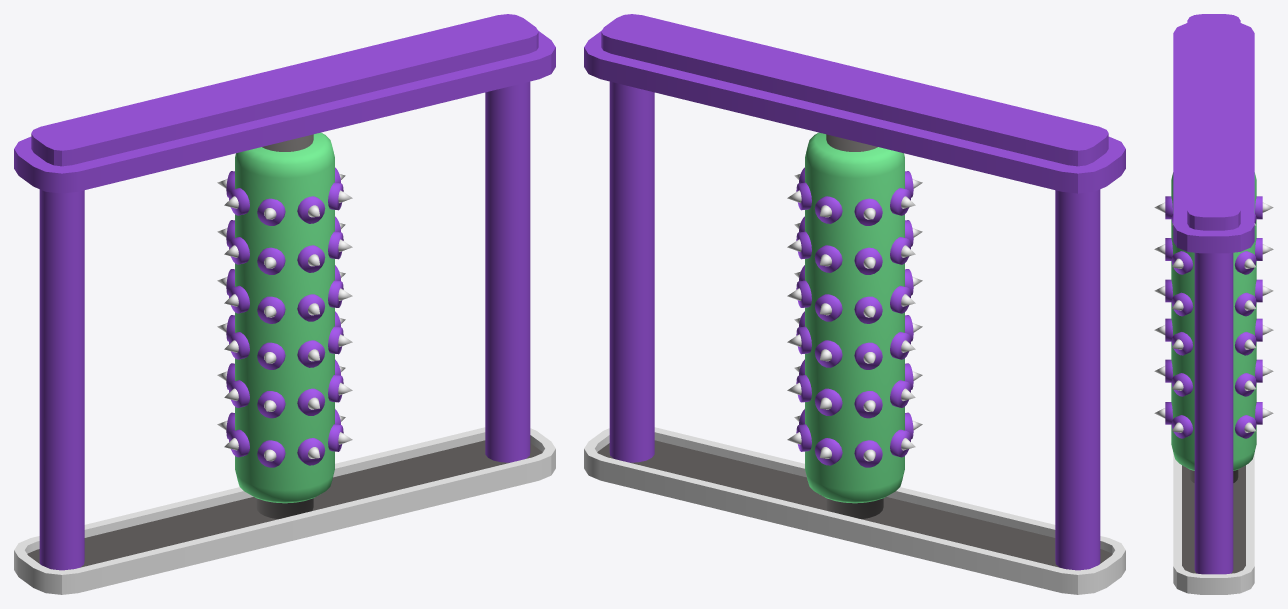
The model's file is Obstacle 21 V4.fbx.
3 views of the same model, side by side, from view 1: azimuth 30°, elevation 25°; view 2: azimuth 150°, elevation 25°; view 3: azimuth 270°, elevation 25° (orthographic). The views are drawn at different scales.
Parts seen in each view (by area): view 1: O21 Part 1, O21 Part 2; view 2: O21 Part 1, O21 Part 2; view 3: O21 Part 1, O21 Part 2.
Boxes of the visible parts, x1=… form: O21 Part 1: x1=14, y1=14, x2=555, y2=594; O21 Part 2: x1=217, y1=132, x2=352, y2=519; O21 Part 1: x1=584, y1=14, x2=1125, y2=594; O21 Part 2: x1=787, y1=132, x2=922, y2=519; O21 Part 1: x1=1173, y1=14, x2=1254, y2=594; O21 Part 2: x1=1154, y1=172, x2=1273, y2=482.
Bounding box in the file's own units: 282 × 231 × 66.38.
1 material, 1 textured.
